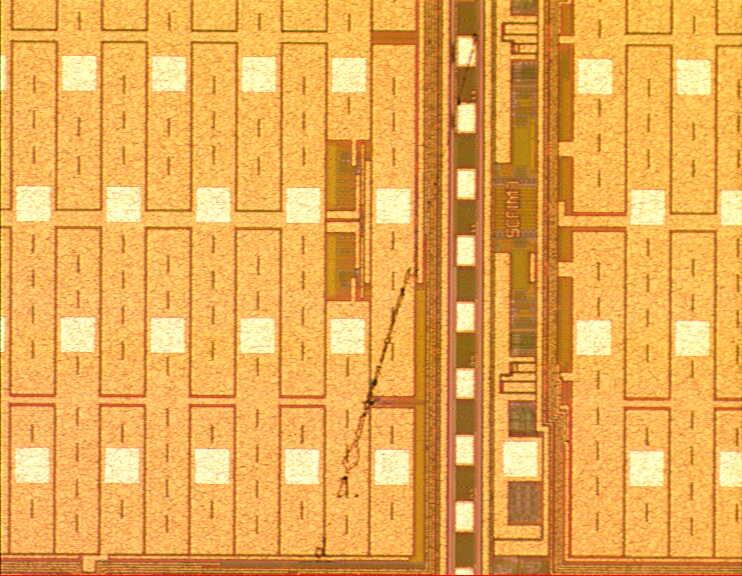SCRATCH: (330, 20, 490, 506)
